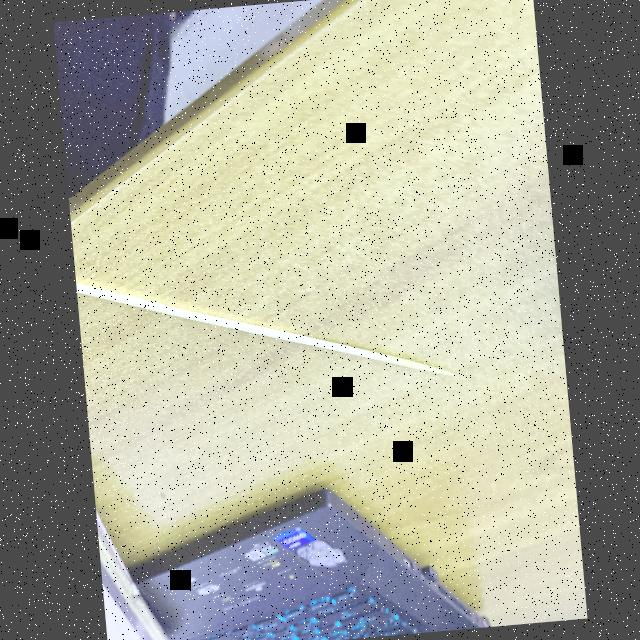stick: (72, 201, 466, 430)
